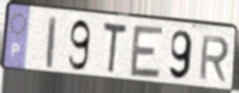9: (67, 18, 93, 73), (168, 29, 194, 82)
E: (129, 23, 166, 81)
I: (45, 14, 58, 70)
R: (197, 34, 231, 84)
T: (101, 20, 129, 77)
